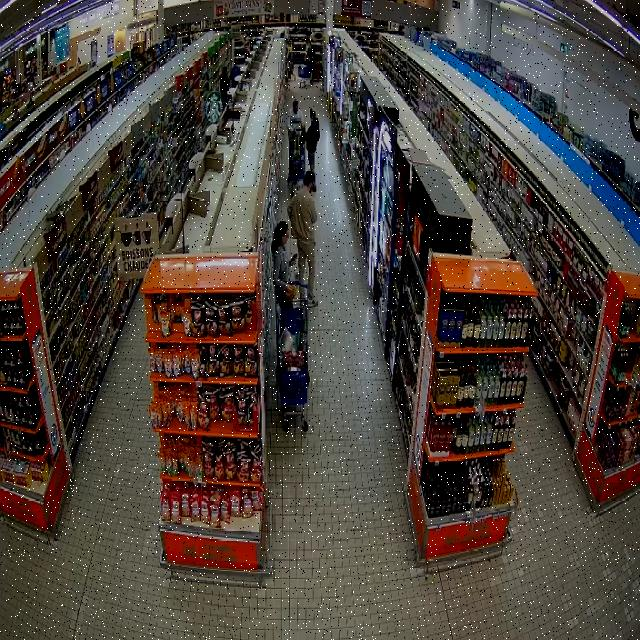person: (288, 170, 316, 306), (271, 220, 296, 306), (304, 111, 319, 171), (288, 99, 304, 132)
